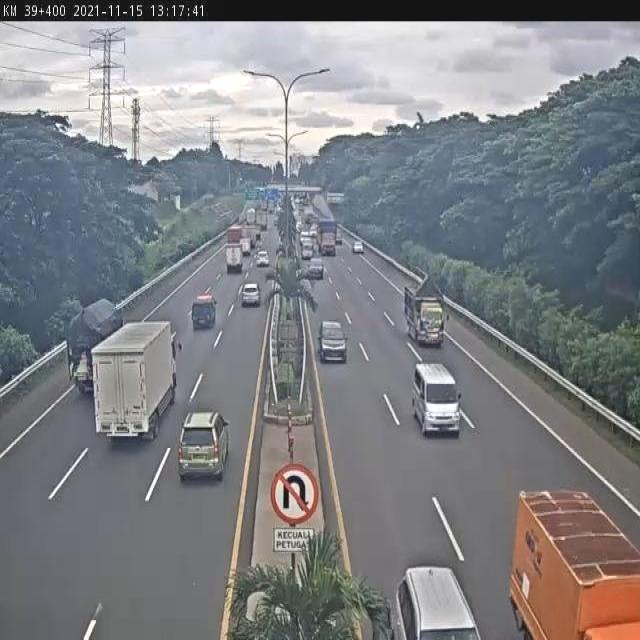Car: (392, 566, 482, 640), (175, 408, 229, 481), (412, 361, 461, 437), (317, 320, 348, 364), (192, 294, 218, 328), (241, 282, 261, 306), (308, 258, 324, 279), (256, 251, 270, 267), (353, 241, 364, 254)
Truck: (512, 480, 640, 640), (92, 311, 176, 454), (65, 296, 118, 405), (396, 271, 453, 348), (315, 223, 347, 266), (221, 243, 251, 273)
